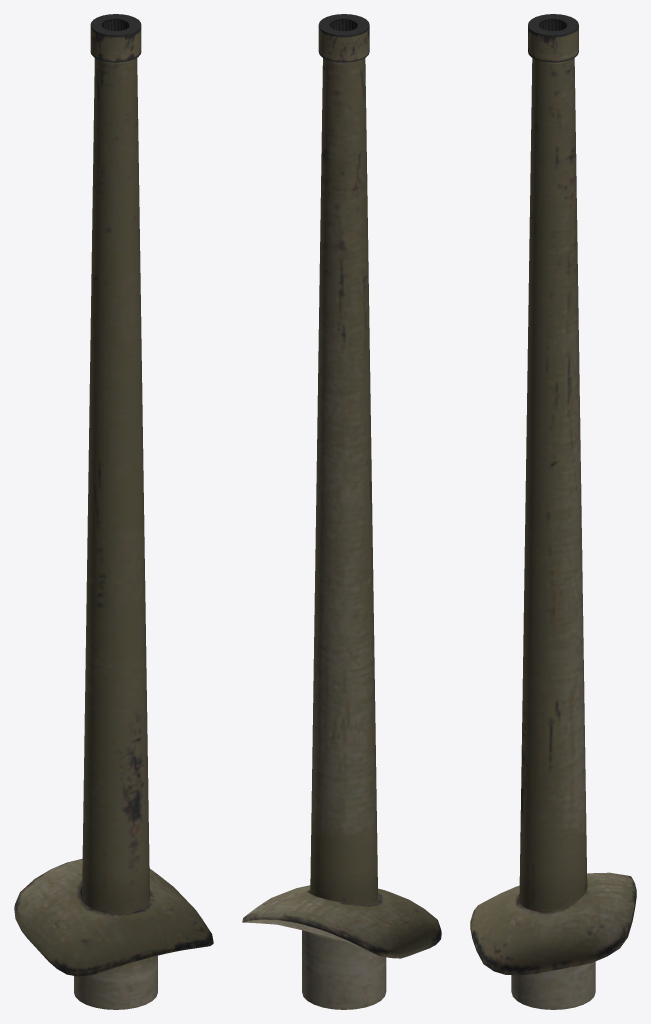
File: Gun_03.glb
3 renders of one model, left to right at view 1: azimuth 30°, elevation 25°; view 2: azimuth 150°, elevation 25°; view 3: azimuth 270°, elevation 25°, orthographic.
Parts seen in each view (by area): view 1: set_0_group_0; view 2: set_0_group_0; view 3: set_0_group_0.
Boxes of the visible parts, x1,y1,x2,y2 form: set_0_group_0: (14, 14, 213, 1009); set_0_group_0: (242, 14, 441, 1009); set_0_group_0: (470, 14, 636, 1009).
Bounding box in the file's own units: 0.5897 × 3.56 × 0.5547.
1 material, 1 textured.
